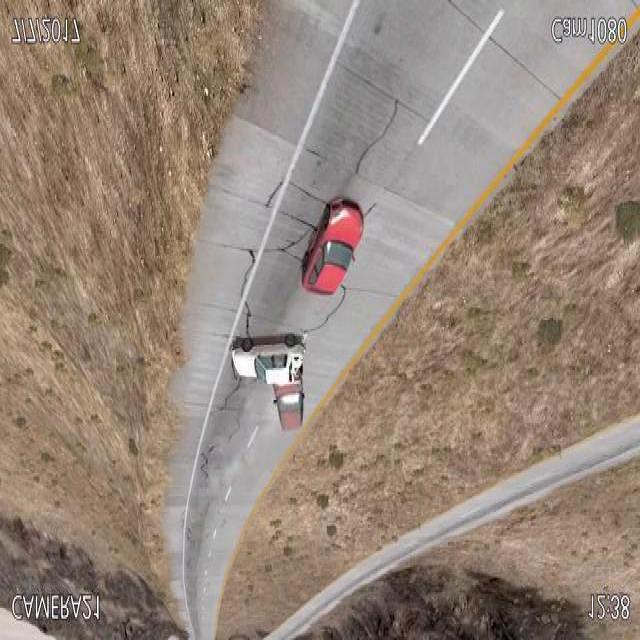moderate: (228, 332, 308, 438)
